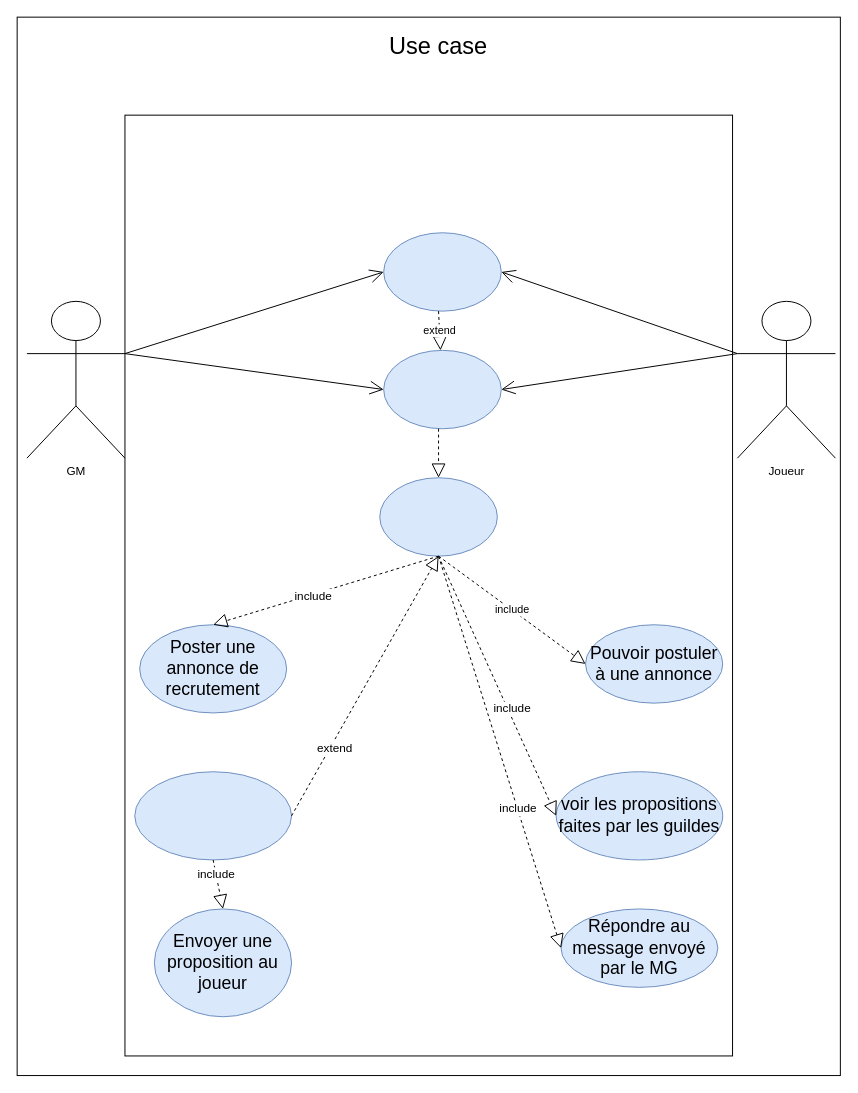
Image size: 858x1093. Some labels were removed from this diagram. Here are the shapes that lost their labels. From the top down, the centre of each, then its label:
At (x=442, y=271): "Voir les annonces globales".
At (x=442, y=389): "Inscription".
At (x=438, y=516): "Connexion / déconnexion".
At (x=213, y=815): "Avoir accés au profile du joueur".
